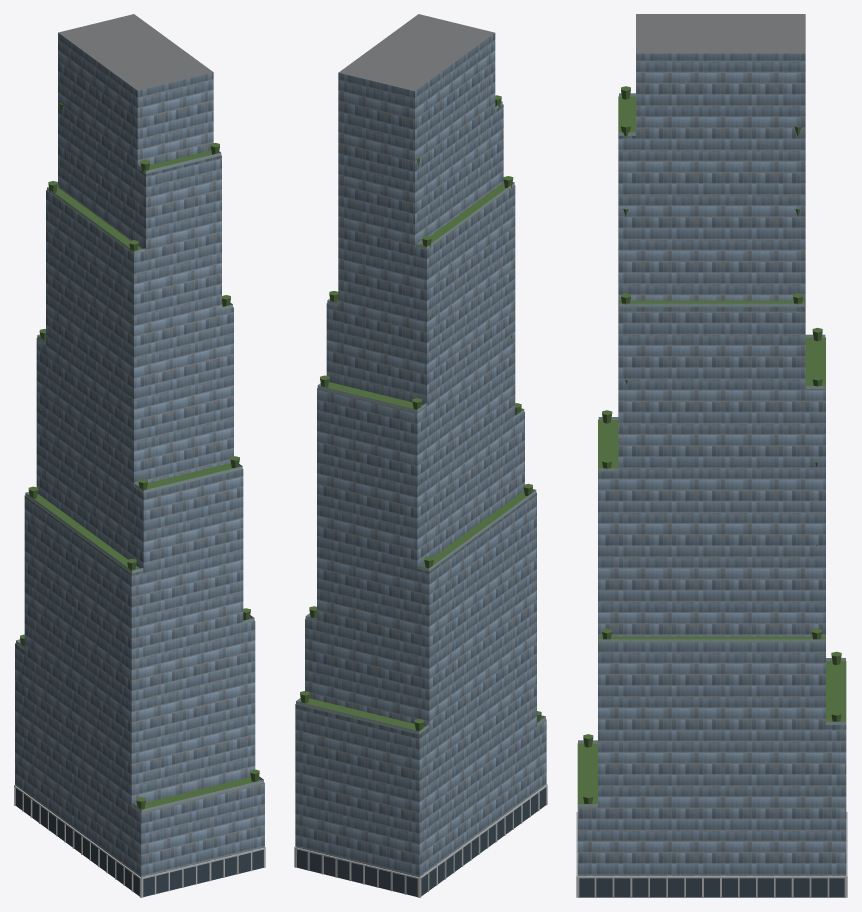
Rendered from the_spiral.glb.
The picture shows the model from 3 angles, left to right: view 1: azimuth 30°, elevation 25°; view 2: azimuth 150°, elevation 25°; view 3: azimuth 270°, elevation 25°; orthographic projection. The views are drawn at different scales.
Parts seen in each view (by area): view 1: the_spiral; view 2: the_spiral; view 3: the_spiral.
Boxes of the visible parts, x1=… form: the_spiral: x1=14, y1=14, x2=265, y2=897; the_spiral: x1=294, y1=14, x2=547, y2=897; the_spiral: x1=576, y1=14, x2=847, y2=897.
Size of the model in its own units: 52.8 by 314 by 92.82.
Materials: 2 (2 with a texture image).
